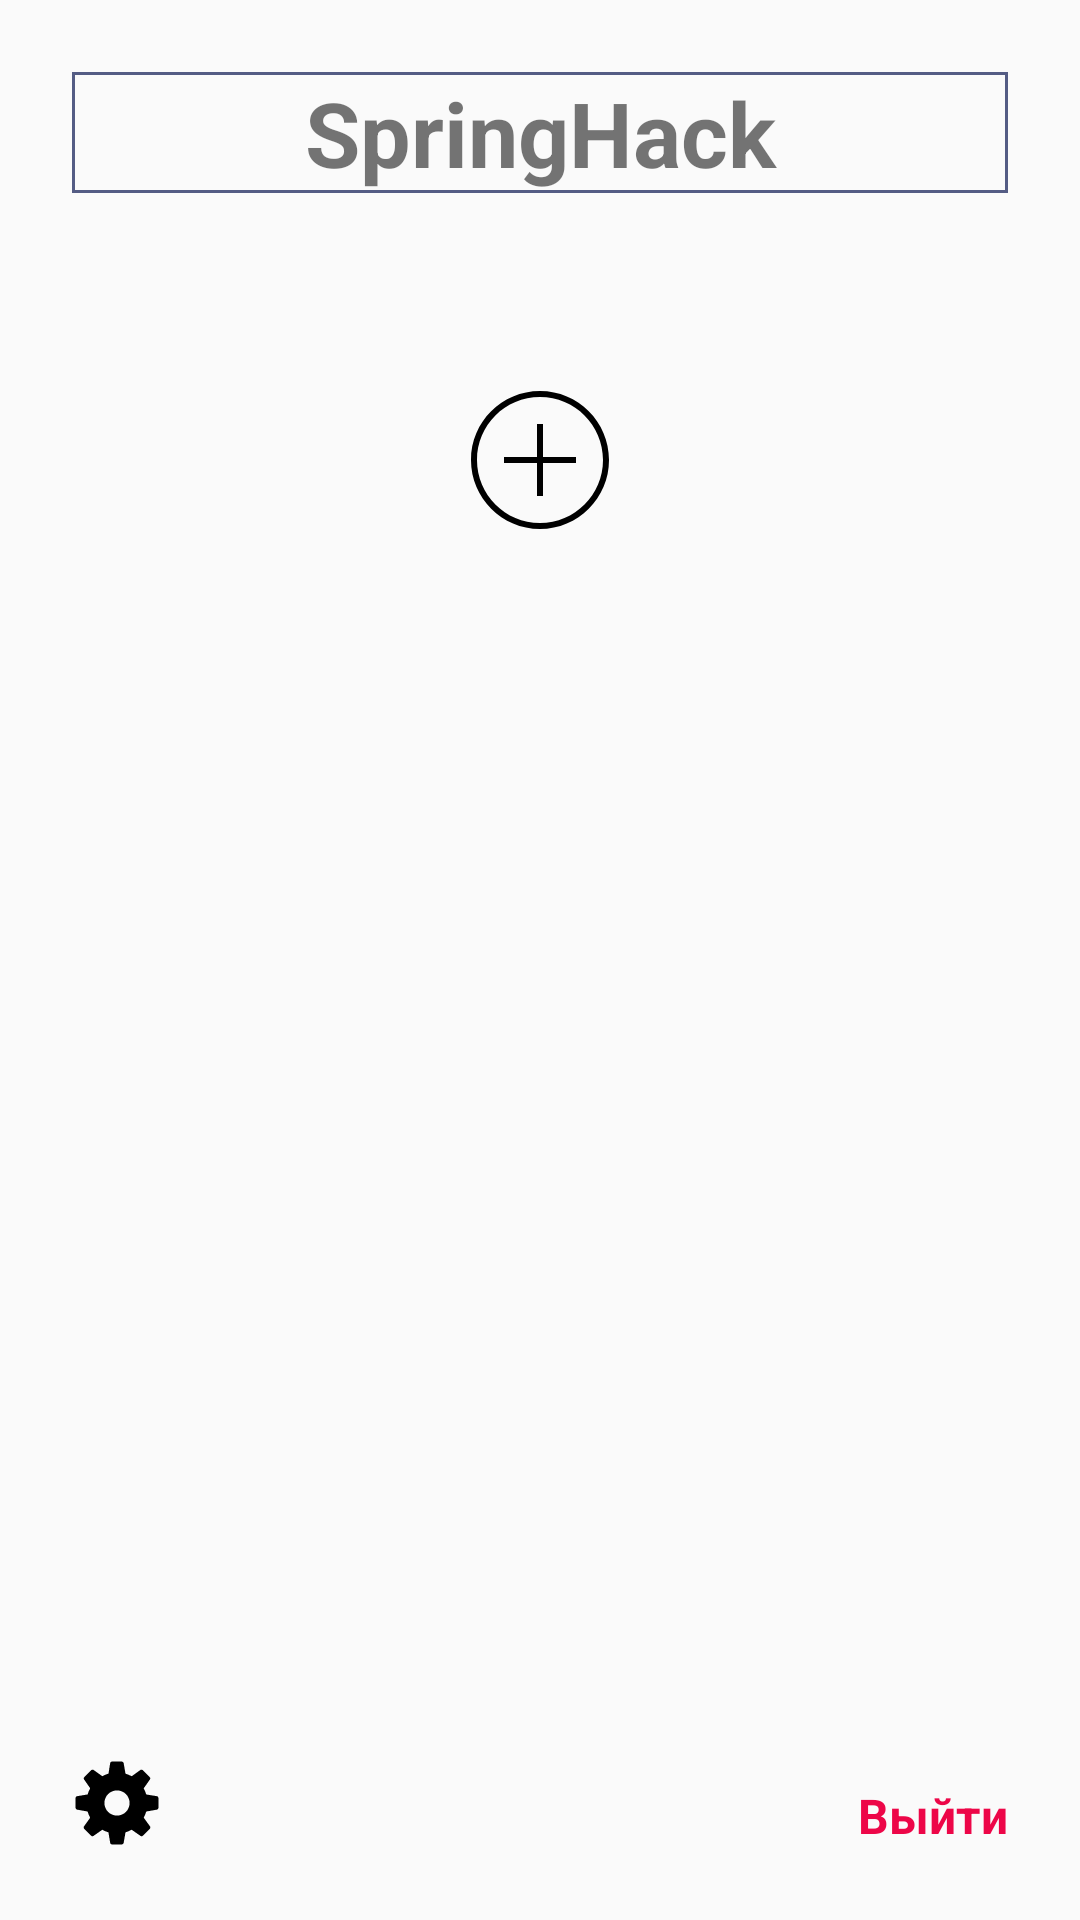

Icons on this 1080x1920 Android screen, each with its box as (x1, y1, x2, y2):
add: (471, 391, 609, 529)
settings: (75, 1761, 159, 1845)
